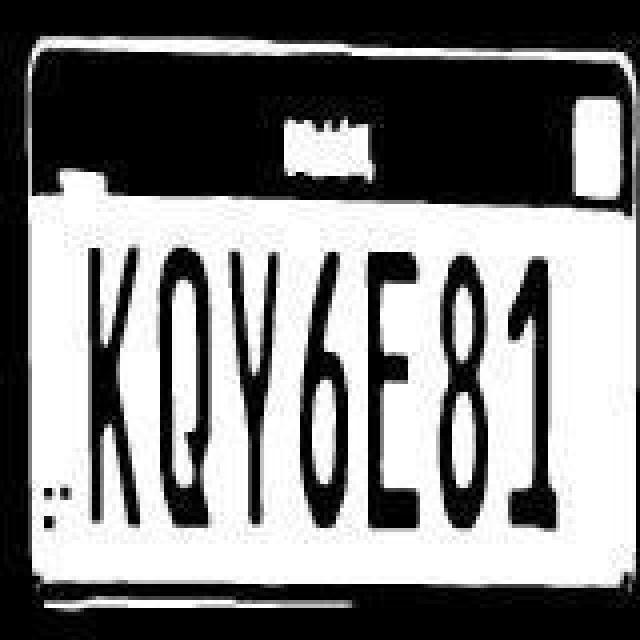1: (498, 248, 566, 536)
6: (296, 250, 352, 534)
8: (436, 252, 492, 532)
E: (360, 232, 424, 536)
K: (80, 246, 144, 530)
Q: (152, 238, 216, 530)
Y: (224, 240, 280, 528)
